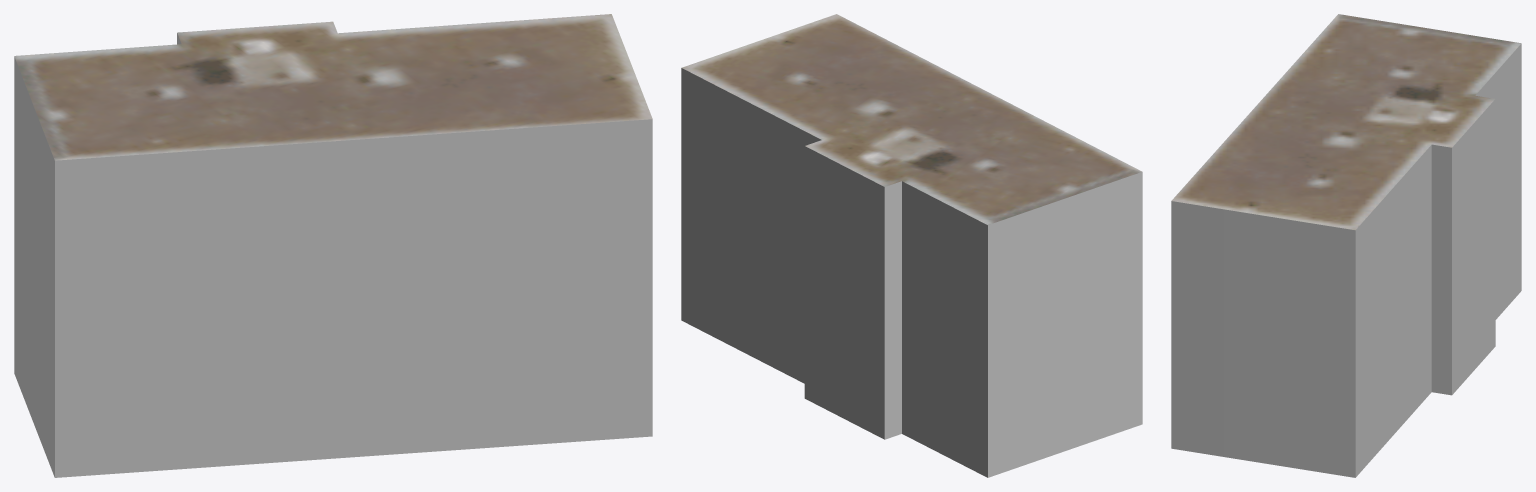
File: DEBW_0010007Txg6.gltf
3 renders of one model, left to right at view 1: azimuth 30°, elevation 25°; view 2: azimuth 150°, elevation 25°; view 3: azimuth 270°, elevation 25°, orthographic. The views are drawn at different scales.
Visible parts, largest first — view 1: Z_UP; view 2: Z_UP; view 3: Z_UP.
Boxes of the visible parts, box(x1,y1,x2,y2) form: Z_UP: box(14, 14, 652, 477); Z_UP: box(681, 14, 1142, 477); Z_UP: box(1171, 14, 1521, 477).
Bounding box in the file's own units: 28.17 × 15.04 × 19.28.
2 materials, 1 textured.
